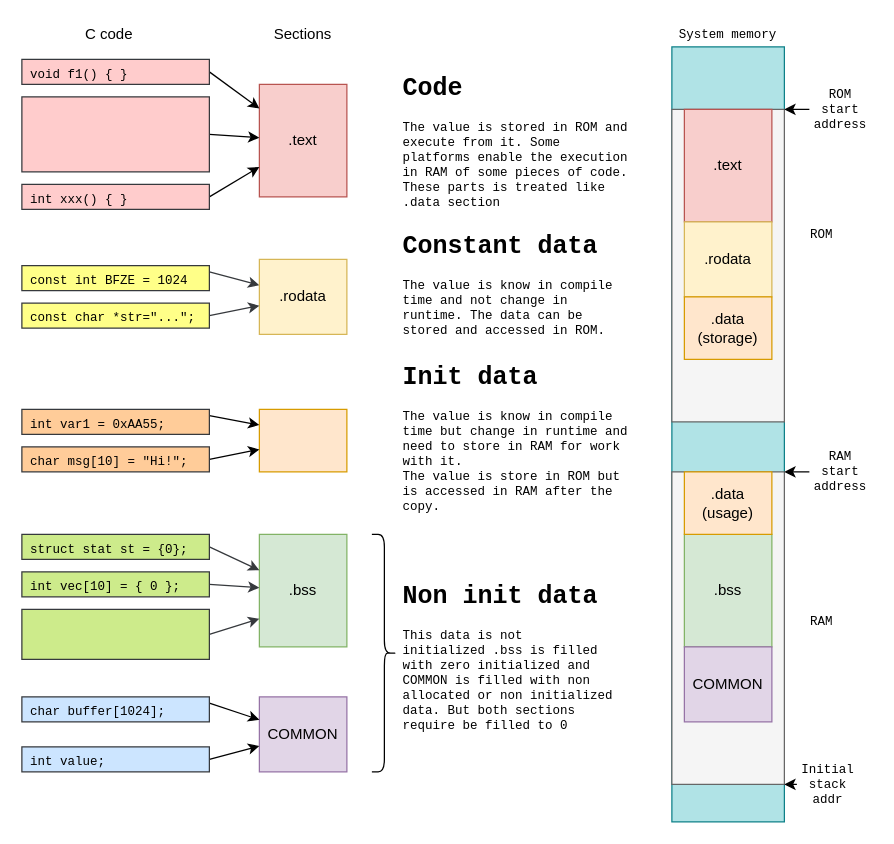
Some shapes in this 894 by 844 pixel diagram are drawn without their labels. The box of each missing label's shape, as (x1, y1, x2, y2) in pixels:
.data: (258, 408, 347, 472)
struct {int x,y,z;} = { 0, 0, 0 };: (21, 608, 209, 659)
void main() { ... }: (21, 96, 209, 172)
